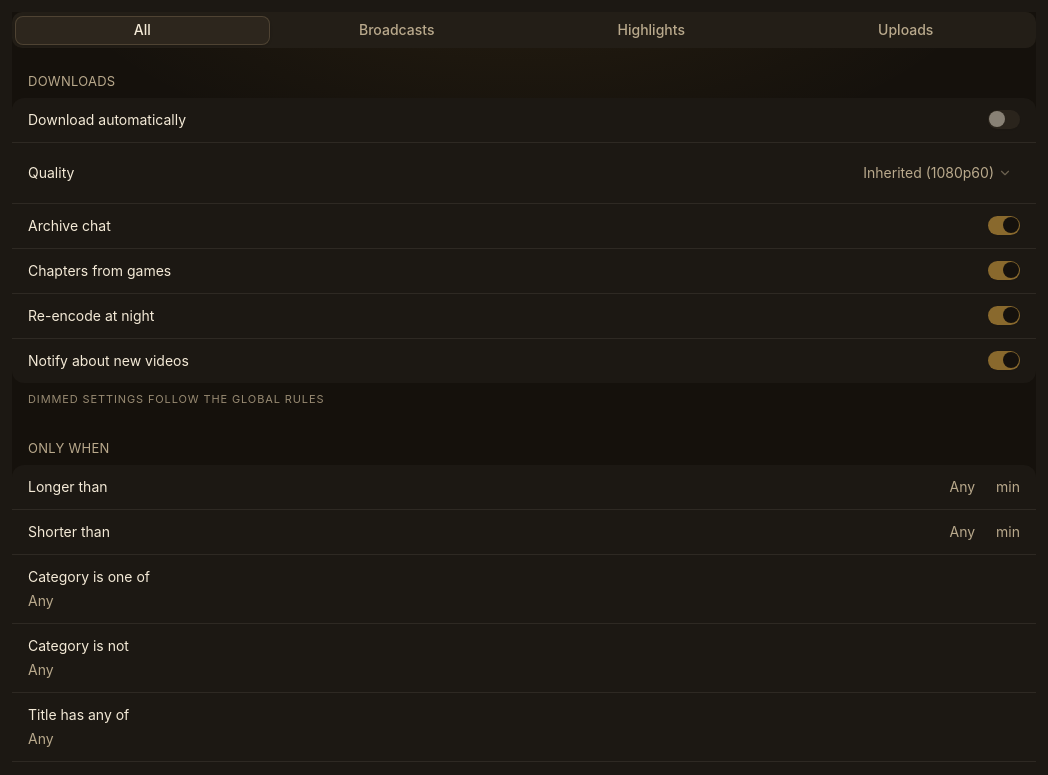
it: StreamerRules › keeps an edit made while a save is running
In the number field labelled "Longer than": (950, 486) [910,476,990,496], type "5"
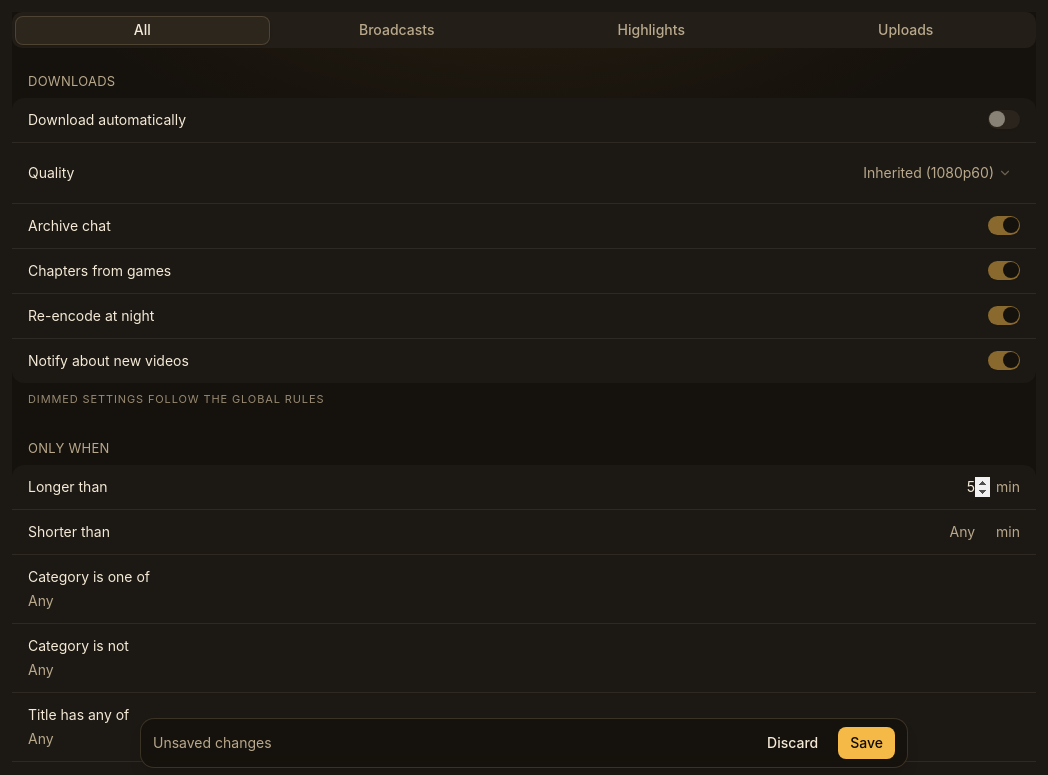
Click the button "Save": click(867, 743) [838,727,895,759]
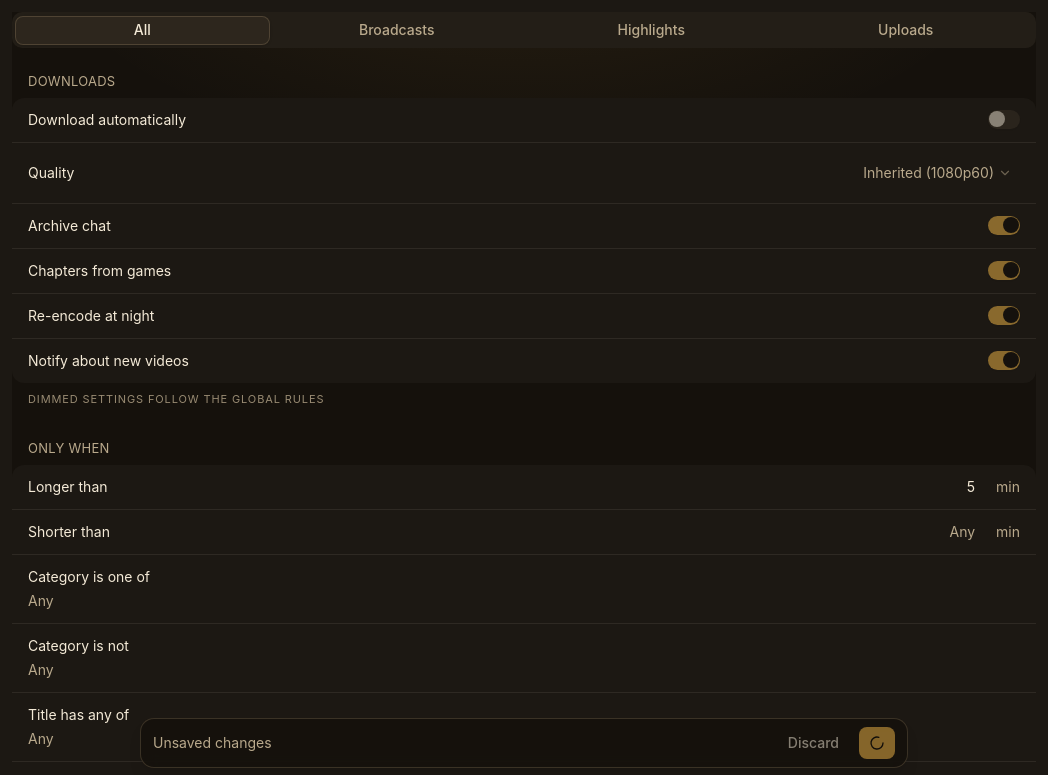
In the number field labelled "Shorter than": (950, 532) [910,522,990,542], type "9"
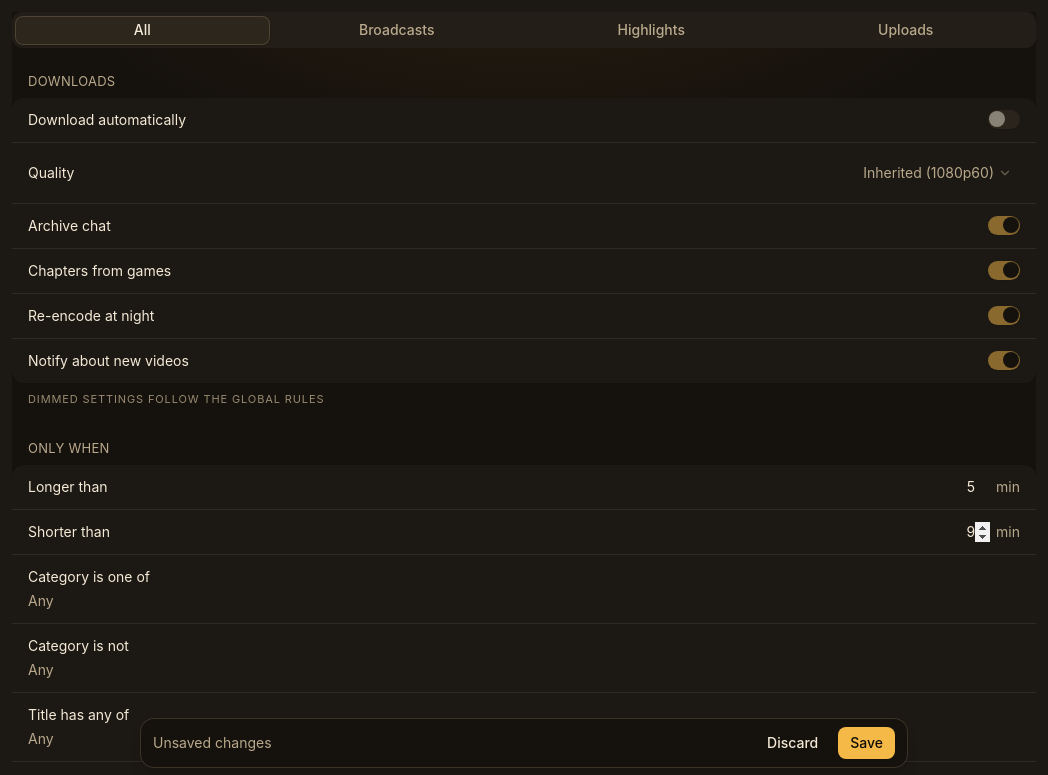
Expected: the text "Unsaved changes" is shown, [153,734,272,751]
Expected: the button "Save" is enabled, [838,727,895,759]
